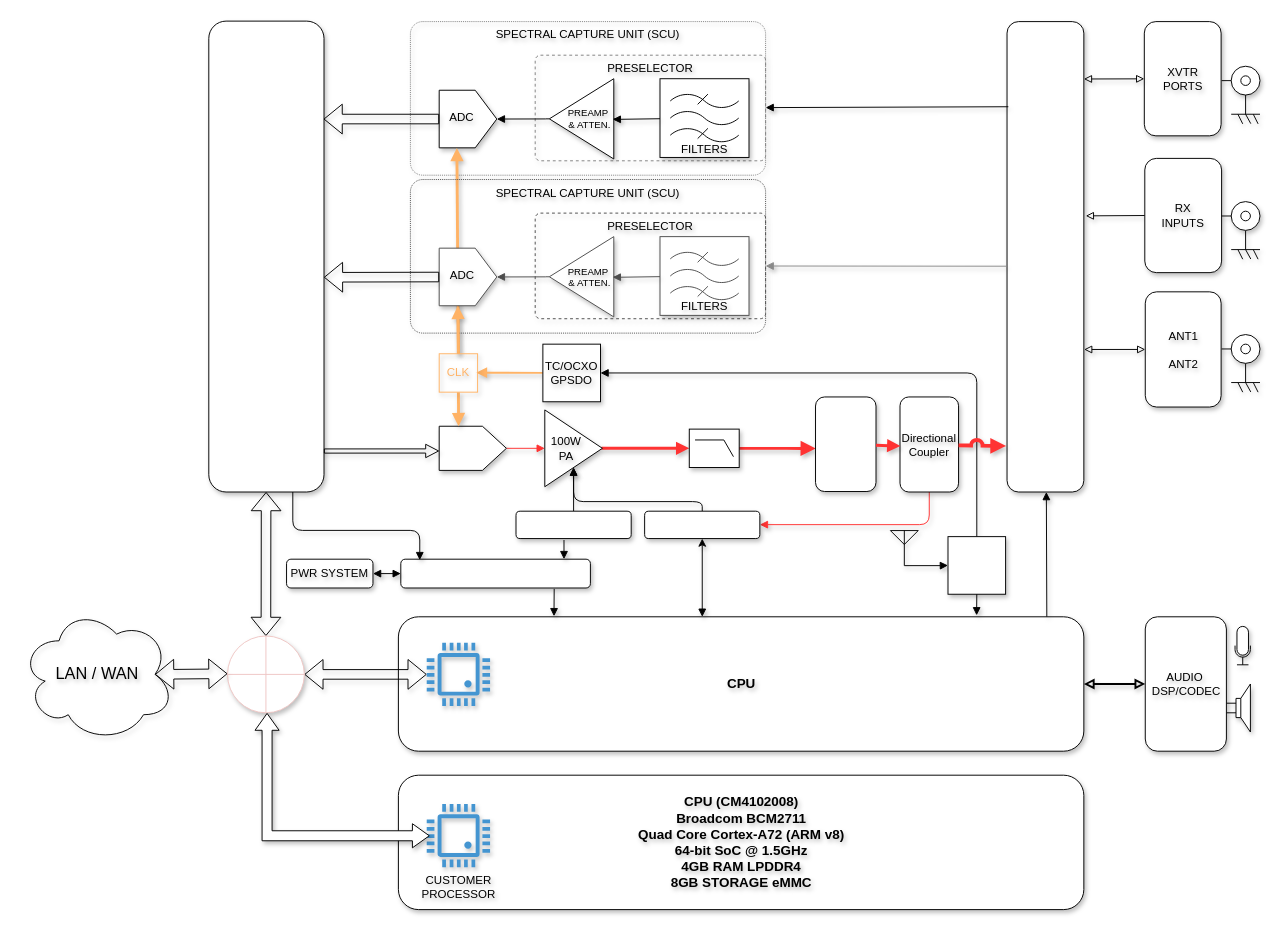
Image size: 1283x933. Some labels were removed from this diagram. The centre of each missing label's shape, as x and y in pixels:
"1GBPS ETHERNET SWITCH" goes at pixel 266 675.
"ATU" goes at pixel 846 445.
"BASEBAND PROCESSOR" goes at pixel 458 675.
"DAC" goes at pixel 473 449.
"FPGA (DSP)" goes at pixel 267 257.
"GPS" goes at pixel 977 566.
"LPF" goes at pixel 714 449.
"RF SWITCHING MATRIX" goes at pixel 1046 258.
"SUPERVISOR" goes at pixel 496 574.
"SWR PROTECTION" goes at pixel 703 525.
"THERMAL MGMT" goes at pixel 574 525.
